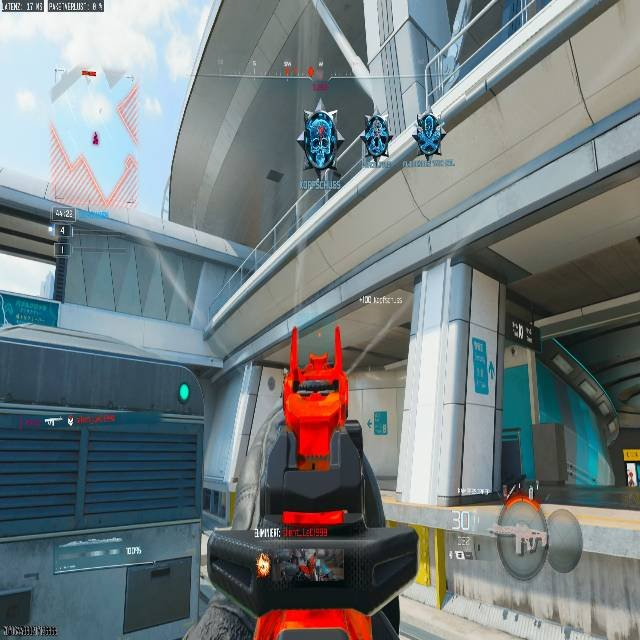head: (10, 3, 640, 640)
player: (297, 99, 343, 178), (412, 113, 445, 162), (361, 114, 390, 167)
